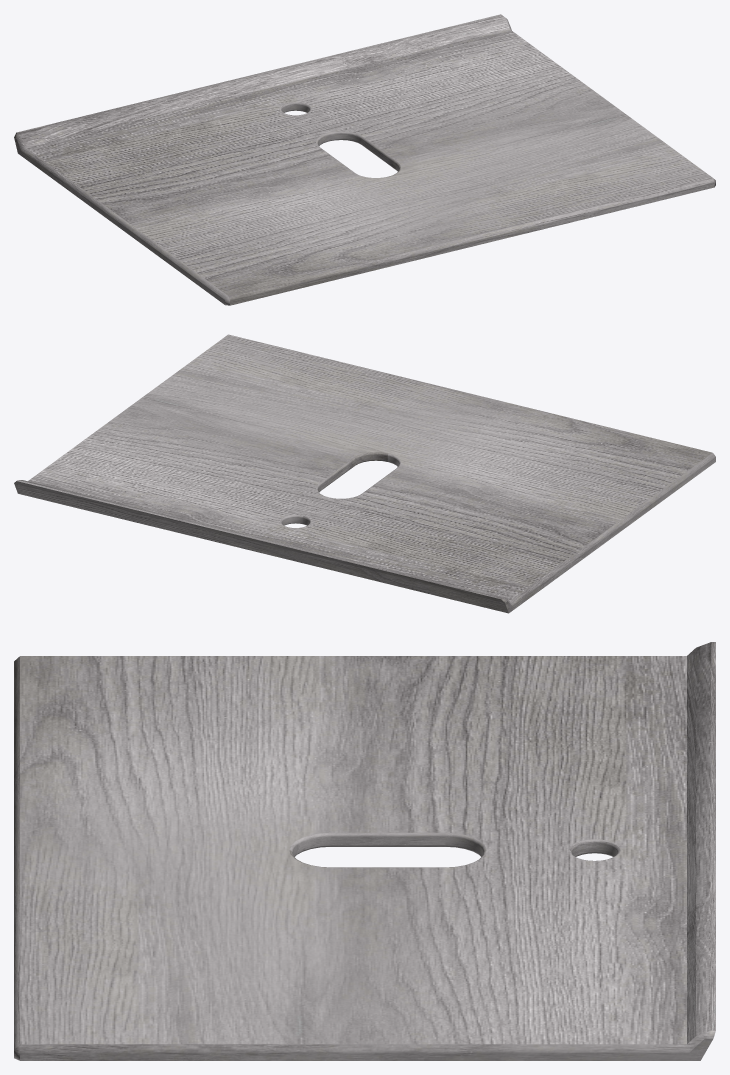
The model's file is countertop-600mm.glb.
The picture shows the model from 3 angles, top to bottom: view 1: azimuth 30°, elevation 25°; view 2: azimuth 150°, elevation 25°; view 3: azimuth 270°, elevation 25°; orthographic projection. The views are drawn at different scales.
Parts seen in each view (by area): view 1: Countertop 600mm; view 2: Countertop 600mm; view 3: Countertop 600mm.
Boxes of the visible parts, <box> form: Countertop 600mm: <box>14,14,715,305</box>; Countertop 600mm: <box>14,334,715,613</box>; Countertop 600mm: <box>14,642,715,1060</box>.
Bounding box in the file's own units: 0.609 × 0.02 × 0.459.
Materials: 1 (1 with a texture image).
